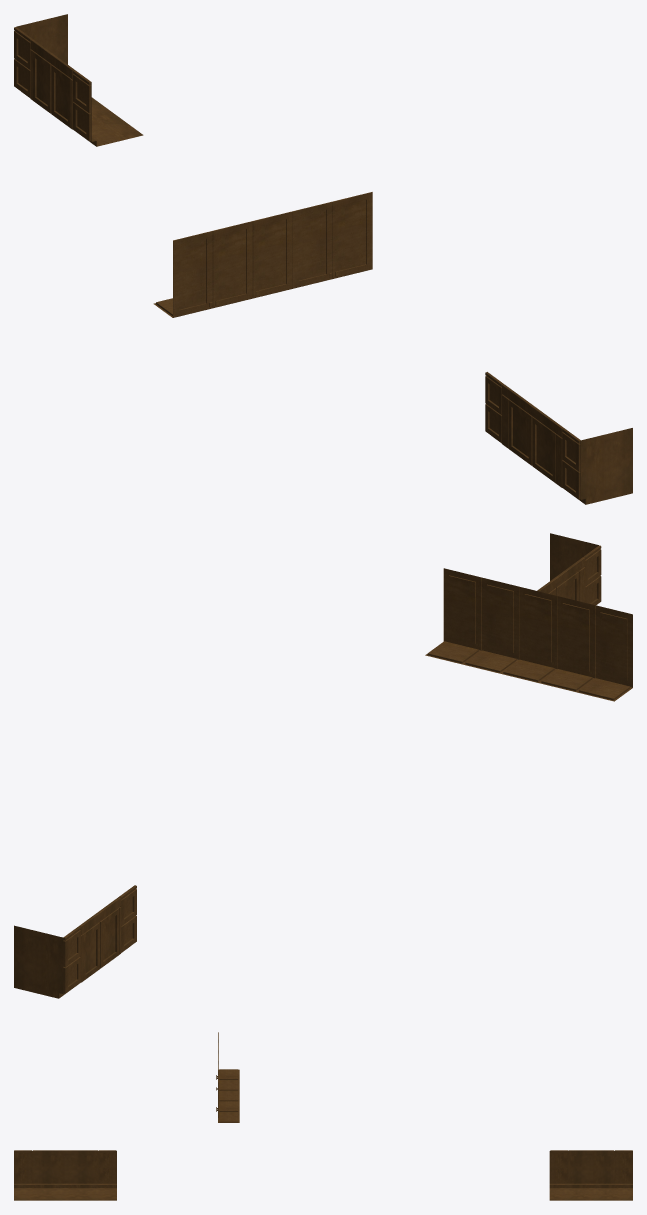
Rendered from Cabinets_Truffle._.glb.
The picture shows the model from 3 angles, top to bottom: view 1: azimuth 30°, elevation 25°; view 2: azimuth 150°, elevation 25°; view 3: azimuth 270°, elevation 25°; orthographic projection. The views are drawn at different scales.
Visible parts, largest first — view 1: Cabinets Truffle._; view 2: Cabinets Truffle._; view 3: Cabinets Truffle._.
Part boxes in pixels (x1,y1,x2,y2): Cabinets Truffle._: (14,14,632,504); Cabinets Truffle._: (14,533,632,998); Cabinets Truffle._: (14,1032,632,1200).
Size of the model in its own units: 4.8 by 3.07 by 17.16.
Materials: 1 (1 with a texture image).
